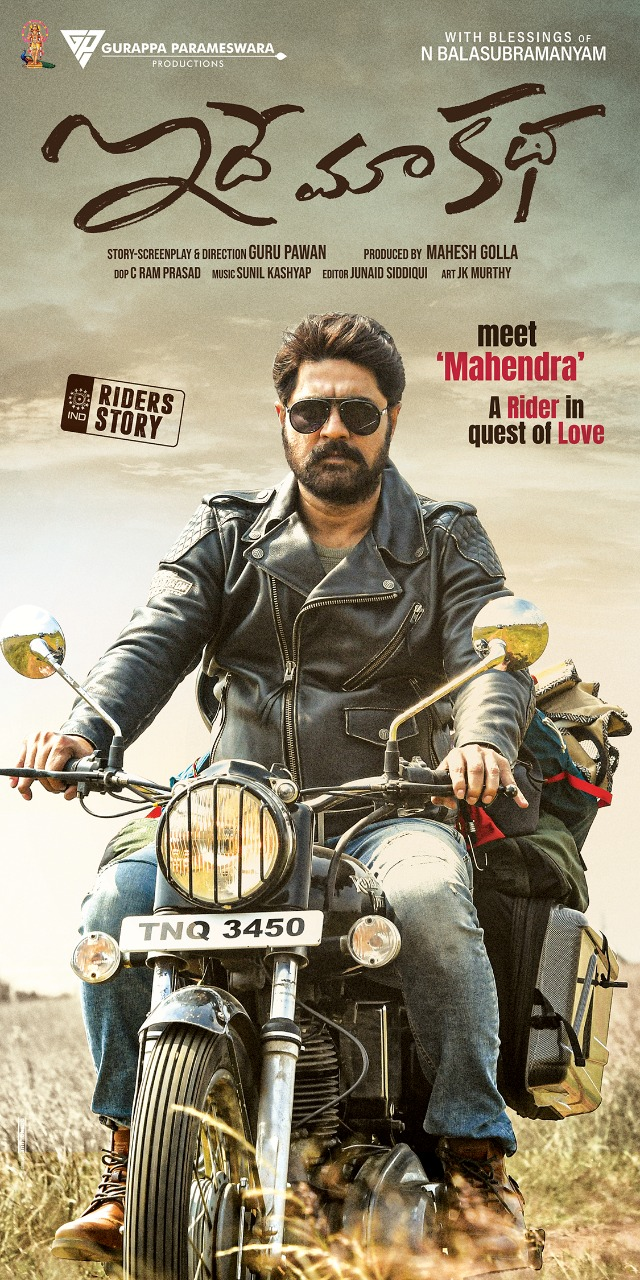motor: (6, 591, 626, 1275)
no helmet: (276, 310, 403, 504)
number: (113, 905, 328, 952)
